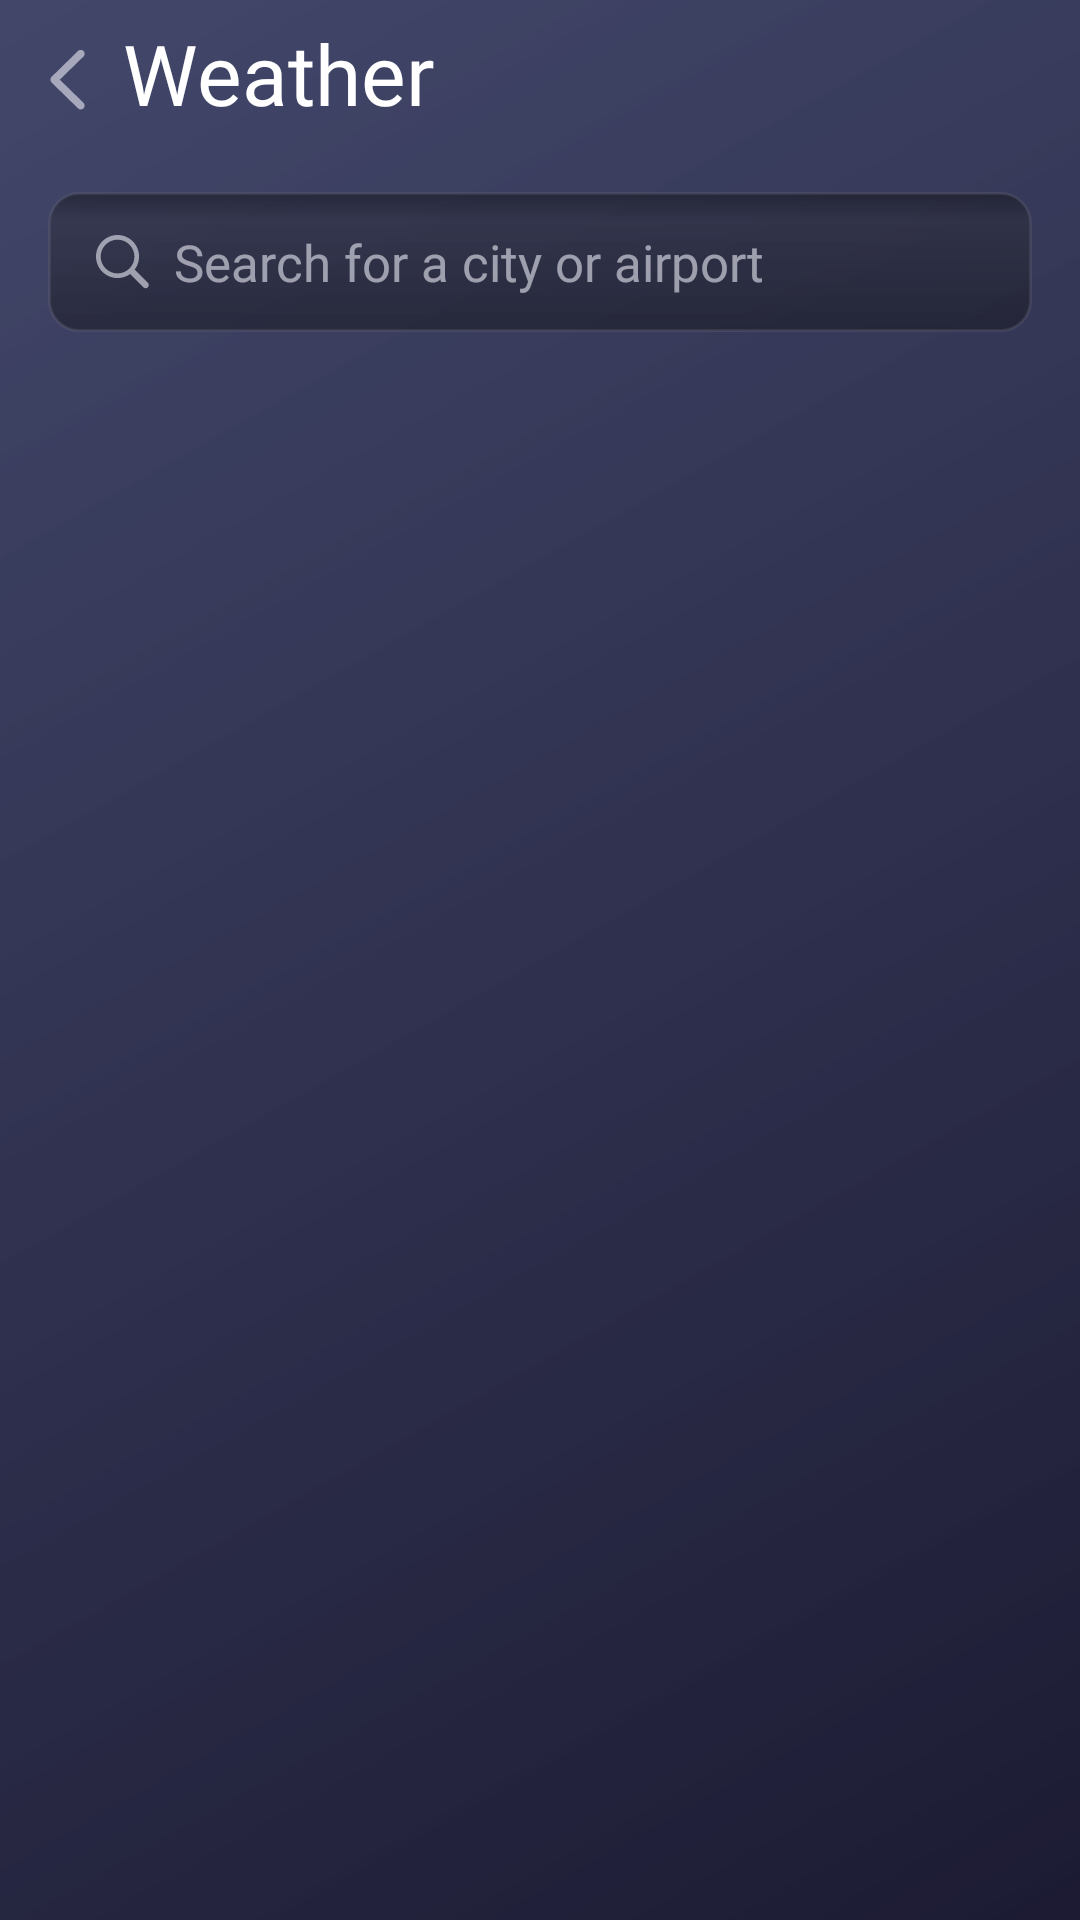

Icon bounding boxes for this 1080px x 1920px phone screenshot, format BBox(x1, y1, x2, y2):
arrow back: BBox(50, 50, 85, 110)
